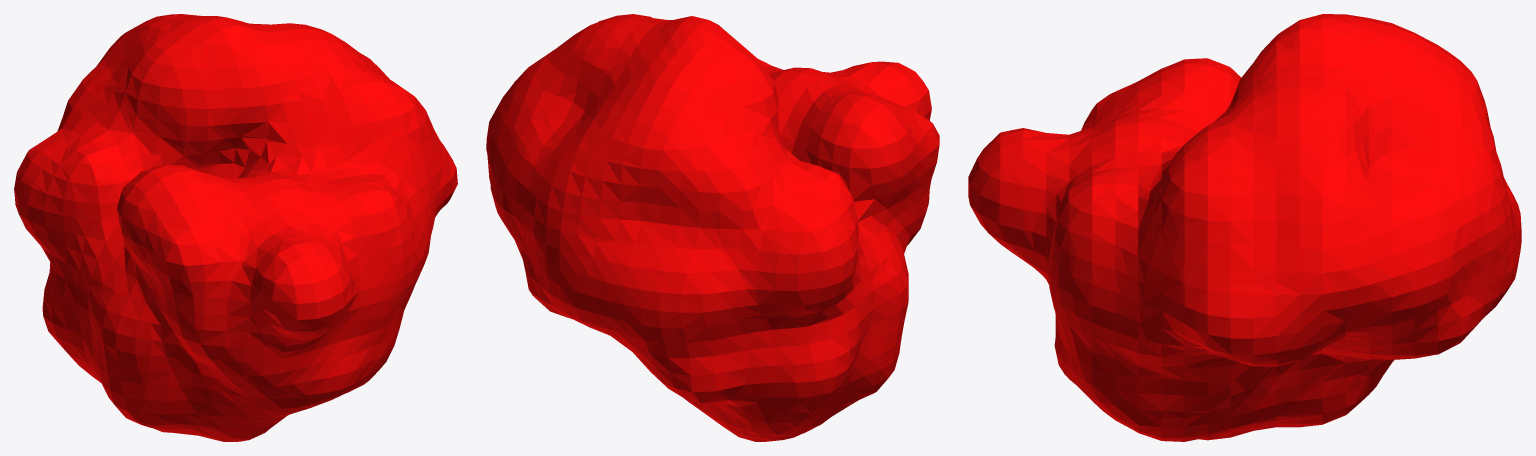
Rendered from hisA_coarse.dae.
3 views of the same model, side by side, from view 1: azimuth 30°, elevation 25°; view 2: azimuth 150°, elevation 25°; view 3: azimuth 270°, elevation 25° (orthographic). The views are drawn at different scales.
Parts seen in each view (by area): view 1: hisA; view 2: hisA; view 3: hisA.
Part boxes in pixels (x1,y1,x2,y2): hisA: (14, 14, 457, 441); hisA: (486, 14, 939, 441); hisA: (968, 14, 1521, 441).
Size of the model in its own units: 48.15 by 47.19 by 53.91.
